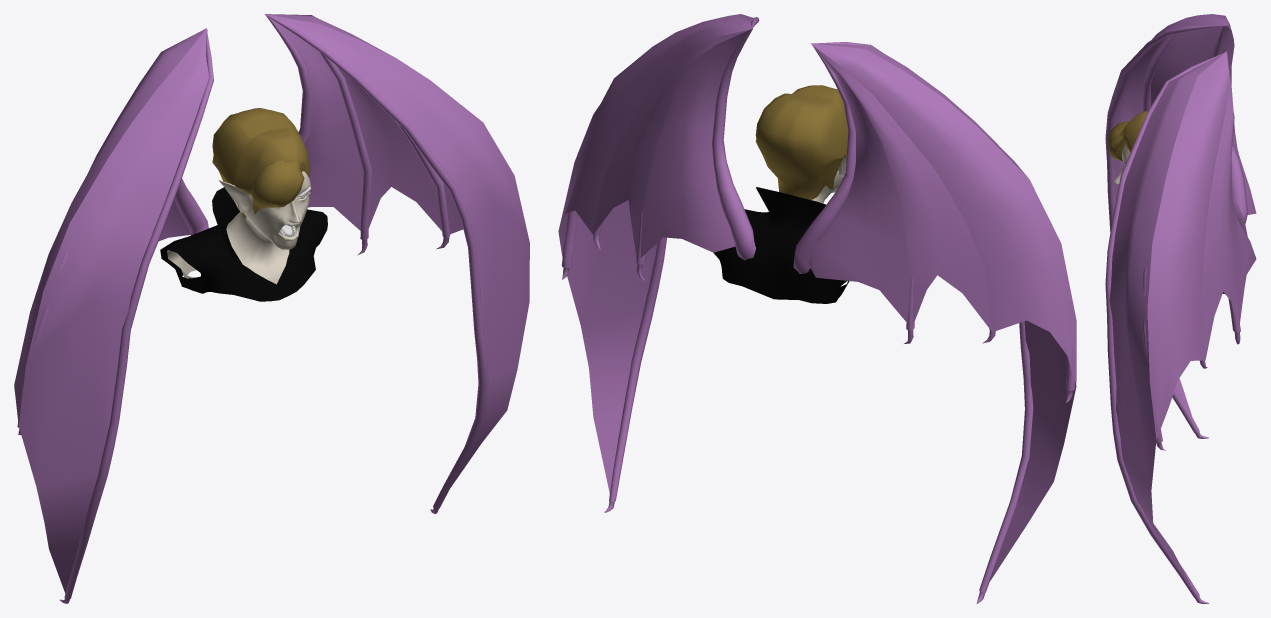
The model's file is DarkFairy.fbx.
The picture shows the model from 3 angles, left to right: view 1: azimuth 30°, elevation 25°; view 2: azimuth 150°, elevation 25°; view 3: azimuth 270°, elevation 25°; orthographic projection. The views are drawn at different scales.
Parts seen in each view (by area): view 1: pPlane12, pPlane8, pPlane16, Clothes, hair, pPlane5, pPlane20, pPlane6, pCylinder9, pCylinder13, pPlane11, body (+8 smaller); view 2: pPlane11, pPlane8, pPlane5, pPlane9, pPlane10, pPlane7, hair, pPlane12, Clothes, pPlane15, pPlane6, pPlane17 (+10 smaller); view 3: pPlane7, pPlane8, pPlane19, pPlane6, pPlane20, pCylinder9, pPlane11, pPlane12, pCylinder13, pPlane5, pPlane18, hair (+8 smaller).
Boxes of the visible parts, x1,y1,x2,y2 form: pPlane12: (18, 28, 208, 592); pPlane8: (265, 14, 529, 486); pPlane16: (19, 30, 208, 591); Clothes: (160, 187, 327, 301); hair: (212, 108, 310, 217); pPlane5: (272, 19, 363, 230); pPlane20: (267, 14, 529, 484); pPlane6: (337, 66, 441, 230); pCylinder9: (268, 16, 488, 513); pCylinder13: (60, 31, 213, 603); pPlane11: (14, 28, 206, 424); body: (167, 171, 310, 284); pPlane11: (810, 43, 1076, 384); pPlane8: (567, 14, 753, 493); pPlane5: (640, 29, 751, 257); pPlane9: (808, 45, 910, 322); pPlane10: (813, 46, 992, 331); pPlane7: (558, 16, 751, 257); hair: (755, 85, 848, 199); pPlane12: (812, 43, 1076, 585); Clothes: (713, 187, 849, 303); pPlane15: (815, 44, 1076, 380); pPlane6: (593, 29, 749, 257); pPlane17: (640, 31, 748, 256); pPlane7: (1147, 51, 1229, 439); pPlane8: (1109, 51, 1226, 590); pPlane19: (1147, 52, 1229, 437); pPlane6: (1202, 63, 1238, 359); pPlane20: (1110, 54, 1221, 580); pCylinder9: (1105, 53, 1222, 603); pPlane11: (1151, 14, 1229, 105); pPlane12: (1113, 15, 1226, 416); pCylinder13: (1105, 25, 1226, 438); pPlane5: (1230, 113, 1256, 322); pPlane18: (1202, 78, 1237, 352); hair: (1108, 110, 1148, 160).
Bounding box in the file's own units: 28.98 × 28.57 × 8.1.
